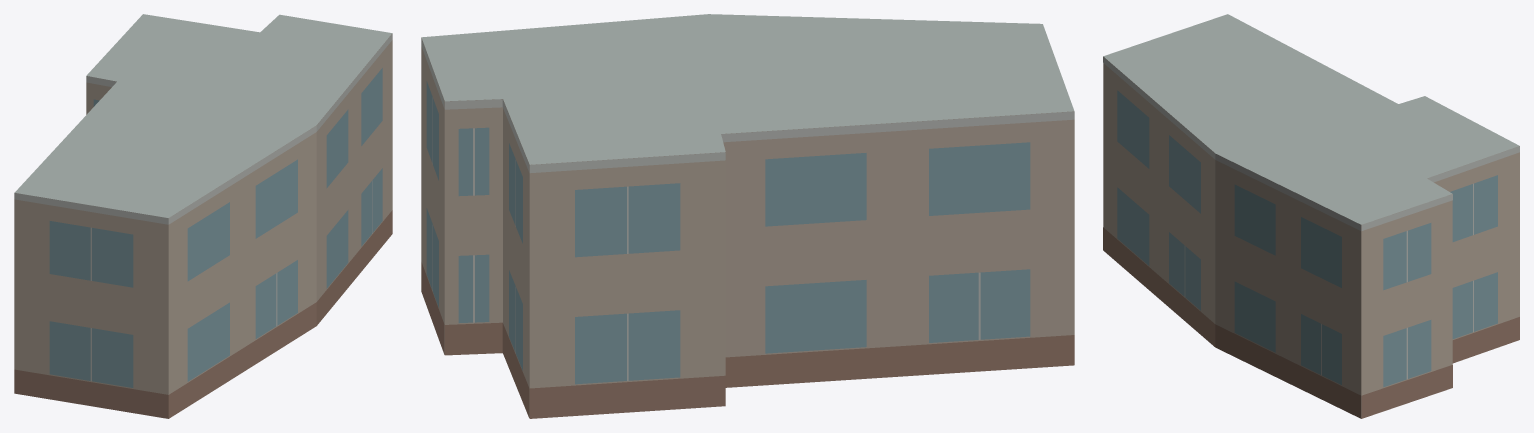
The model's file is survey-upis-32489476.glb.
3 views of the same model, side by side, from view 1: azimuth 30°, elevation 25°; view 2: azimuth 150°, elevation 25°; view 3: azimuth 270°, elevation 25° (orthographic). The views are drawn at different scales.
Parts seen in each view (by area): view 1: survey-upis-32489476.tmp; view 2: survey-upis-32489476.tmp; view 3: survey-upis-32489476.tmp.
Part boxes in pixels (x1,y1,x2,y2): survey-upis-32489476.tmp: [14, 14, 392, 418]; survey-upis-32489476.tmp: [421, 14, 1074, 418]; survey-upis-32489476.tmp: [1103, 14, 1519, 418].
Bounding box in the file's own units: 17.26 × 7.4 × 14.41.
